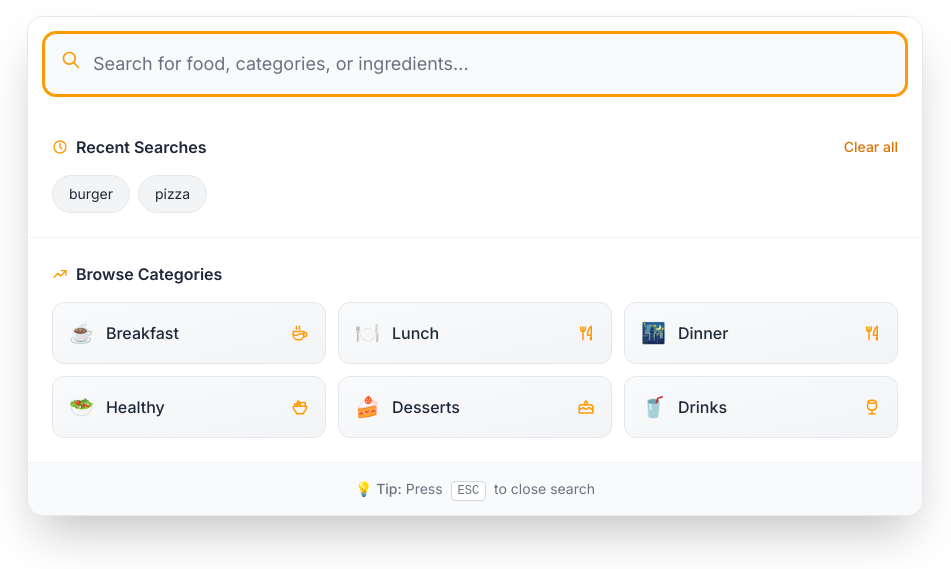
Test: GlobalSearch Component › handles search errors gracefully
The width and height of the screenshot is (951, 569).
Type "error test" into the field with placeholder "Search for food, categories, or ingredients...". click: (475, 64)
box: [45, 34, 905, 94]
Wait 500 ms
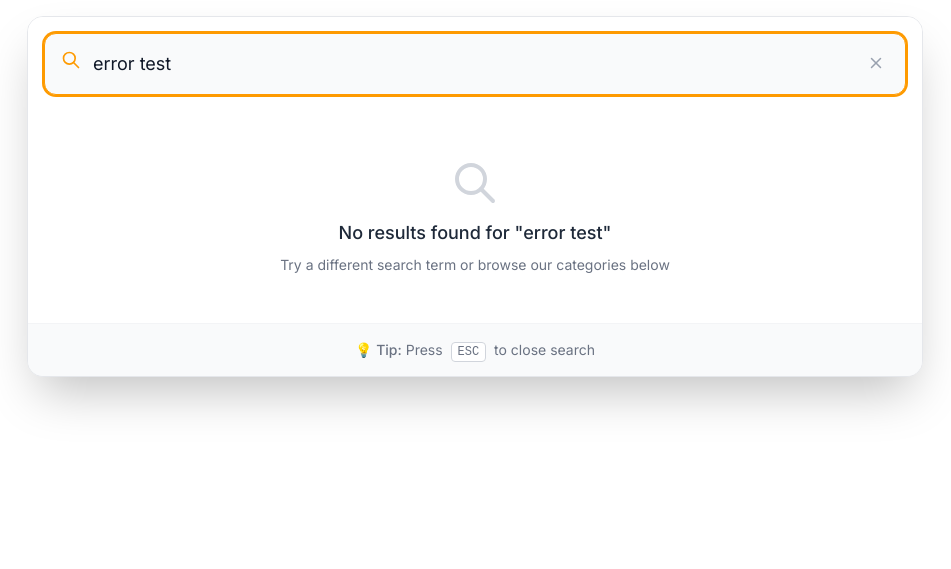
Check: the text "No results found for \"error test\"" is shown, box [338, 222, 611, 243]
